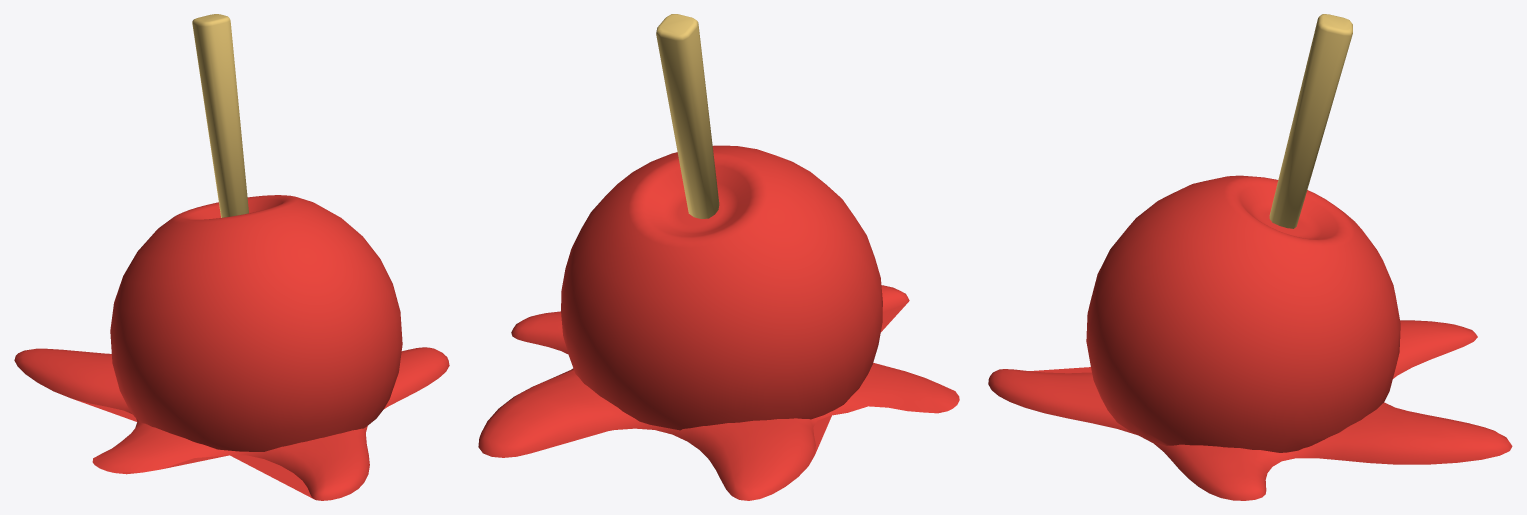
File: Sweet_7.fbx
3 renders of one model, left to right at view 1: azimuth 30°, elevation 25°; view 2: azimuth 150°, elevation 25°; view 3: azimuth 270°, elevation 25°, orthographic. The views are drawn at different scales.
Parts seen in each view (by area): view 1: Sweet_7; view 2: Sweet_7; view 3: Sweet_7.
Part boxes in pixels (left/top/right/bottom): Sweet_7: left=14, top=14, right=449, bottom=500; Sweet_7: left=478, top=14, right=959, bottom=500; Sweet_7: left=988, top=14, right=1512, bottom=500.
Bounding box in the file's own units: 59.42 × 54.13 × 67.28.
